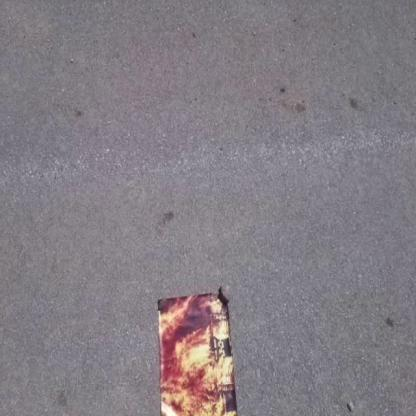fire-poster: (155, 284, 240, 415)
